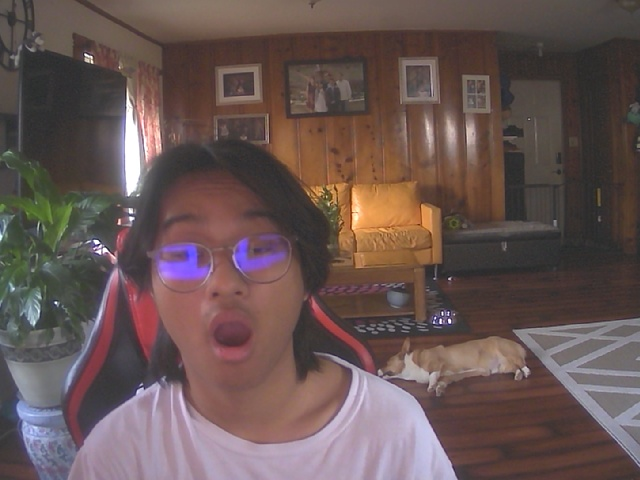fear: (139, 155, 320, 397)
